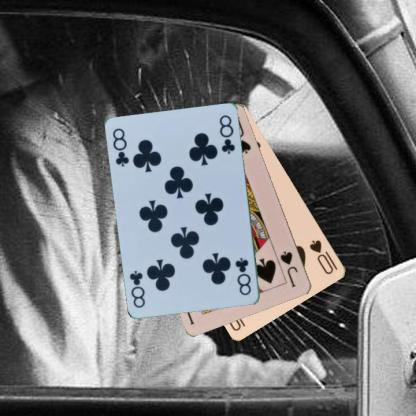10s: (307, 237, 339, 275)
8c: (110, 126, 131, 168), (232, 255, 252, 297)
Js: (278, 248, 300, 289)
